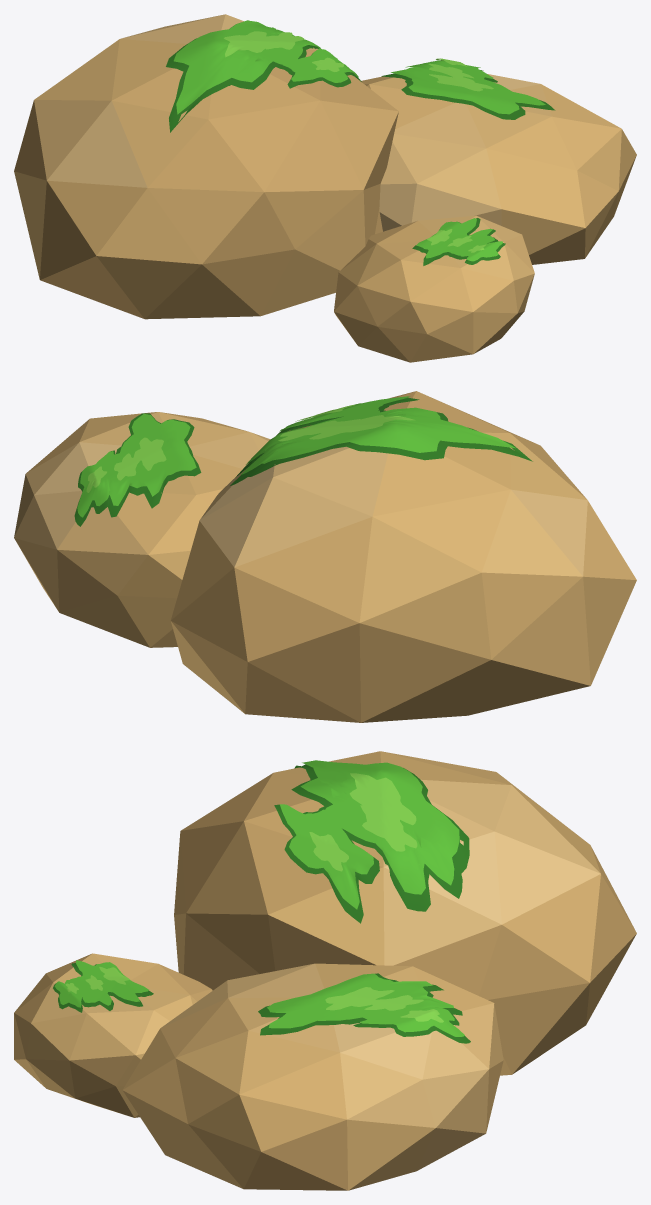
File: rock_7_streak.glb
3 renders of one model, top to bottom at view 1: azimuth 30°, elevation 25°; view 2: azimuth 150°, elevation 25°; view 3: azimuth 270°, elevation 25°, orthographic. The views are drawn at different scales.
Parts seen in each view (by area): view 1: rock_7_streak; view 2: rock_7_streak; view 3: rock_7_streak.
Part boxes in pixels (<box>): rock_7_streak: <box>14,14,636,362</box>; rock_7_streak: <box>14,391,636,722</box>; rock_7_streak: <box>14,751,636,1190</box>.
Size of the model in its own units: 2.57 by 1.04 by 2.29.
